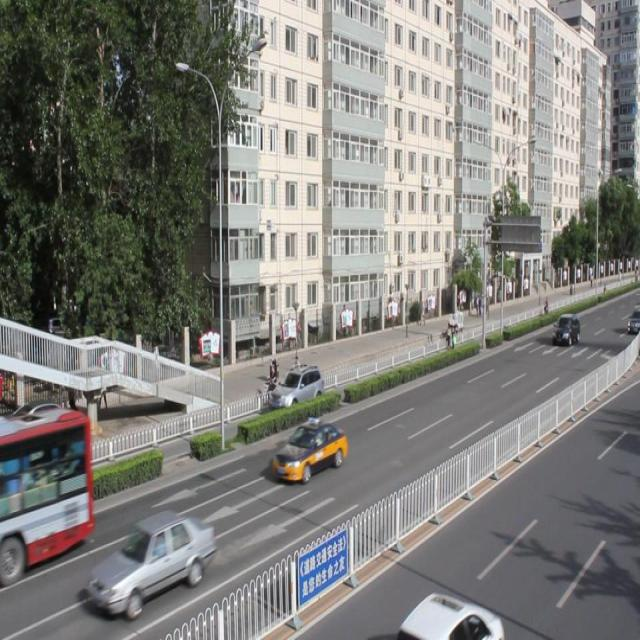car: (86, 508, 212, 616), (392, 589, 503, 640), (270, 416, 346, 480), (270, 362, 324, 408)
van: (1, 404, 92, 577)
